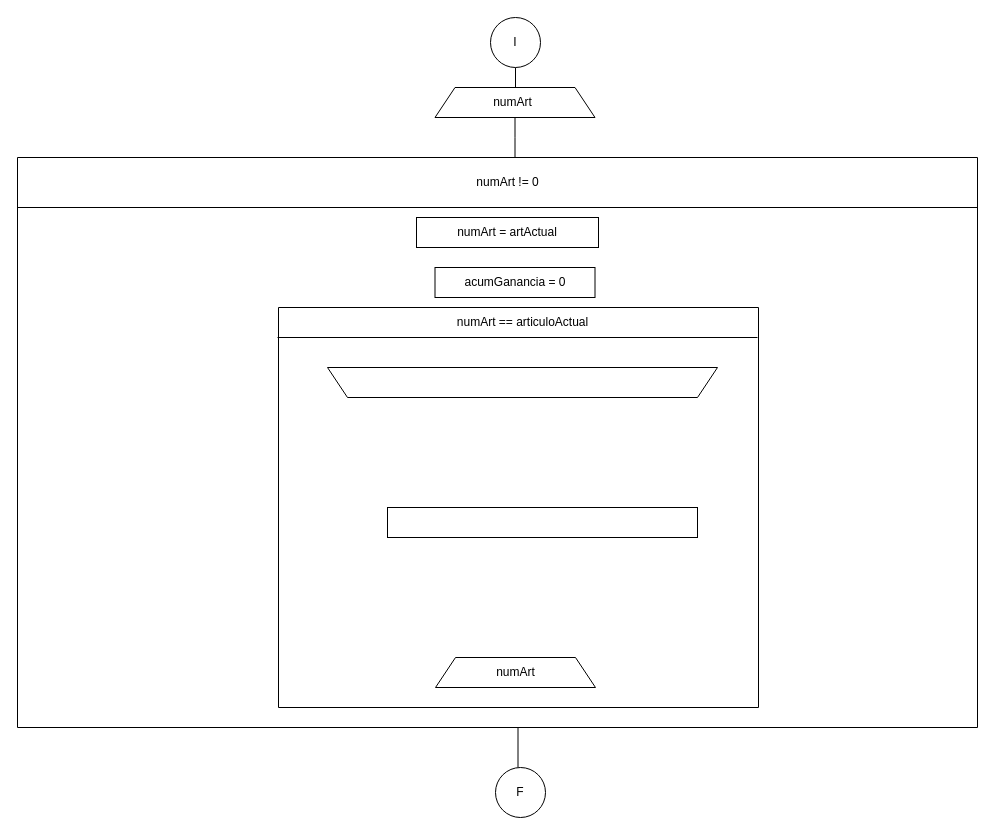
The diagram is 996 pixels wide and 835 high, and some of its shapes have lost their labels. The centre of each missing label's shape, as x and y in pixels:
acumGanancia += (pV - pC) * cantDeArtVendidos: the point at 542,522
dia, cantDeArtVendidos, artActual, pC, pV: the point at 522,382
